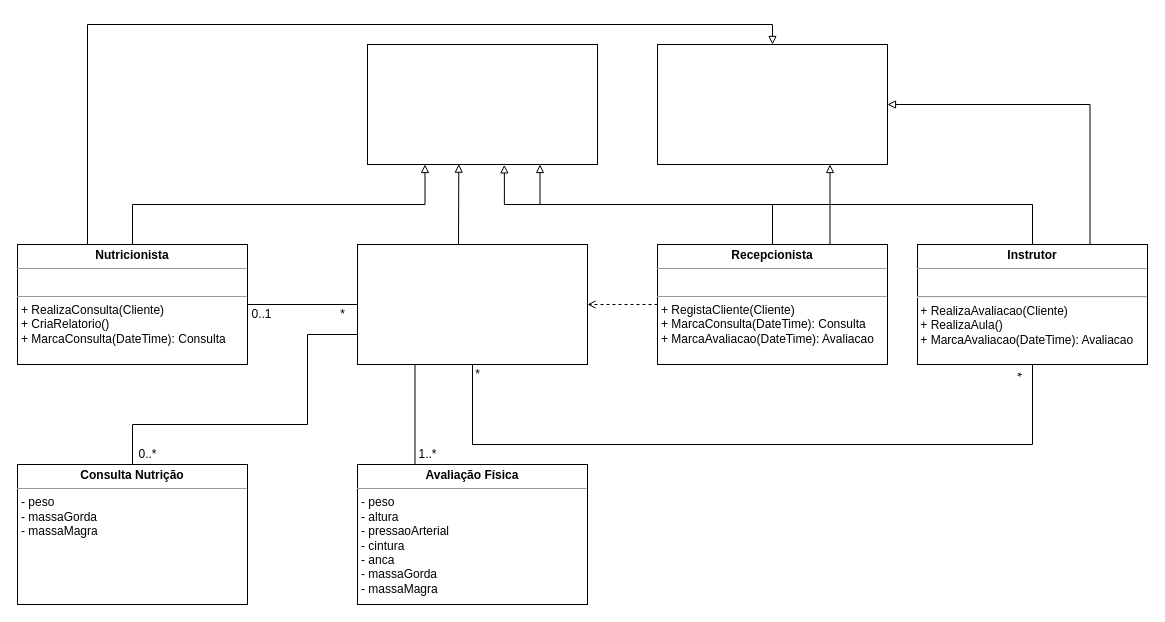
The diagram is 1165 pixels wide and 622 high, and some of its shapes have lost their labels. The centre of each missing label's shape, as x and y in pixels:
"Cliente" goes at point 472,304.
"Funcionário - horaEntrada - horaSaida - diaSemana" goes at point 772,104.
"Utilizador - email - password - dataNascimento - nome + LogIn()" goes at point 482,104.
